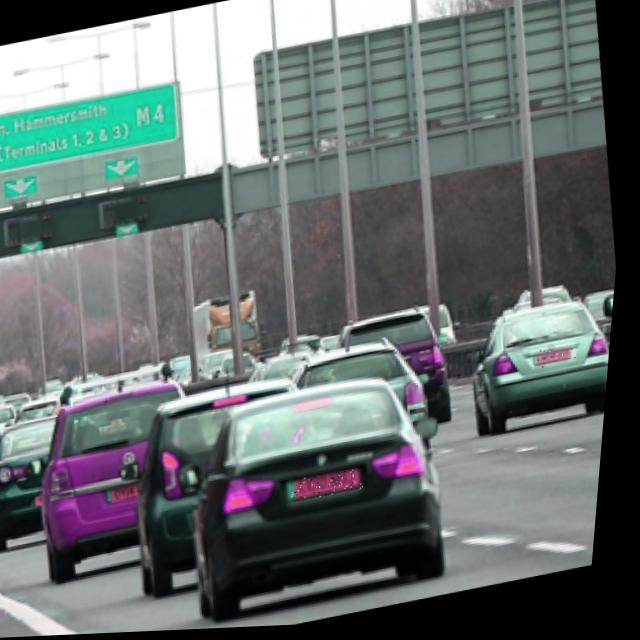license_plate: (297, 469, 379, 506), (536, 347, 584, 375)
